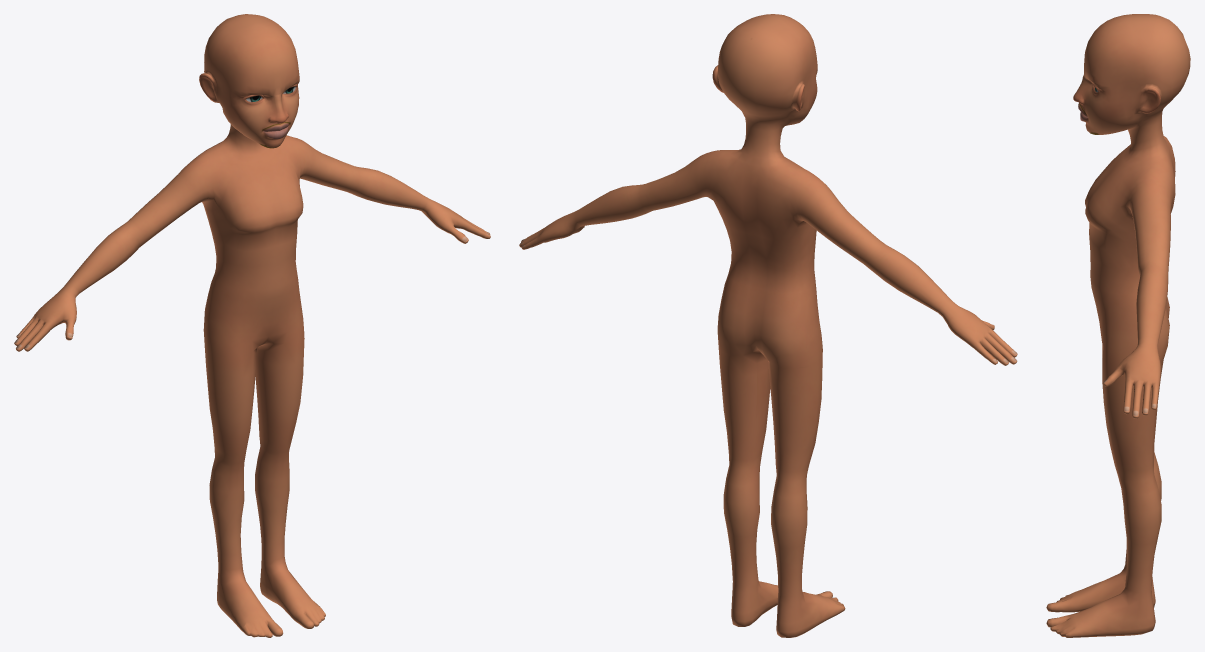
File: frame_0058.glb
3 views of the same model, side by side, from view 1: azimuth 30°, elevation 25°; view 2: azimuth 150°, elevation 25°; view 3: azimuth 270°, elevation 25° (orthographic). The views are drawn at different scales.
Parts seen in each view (by area): view 1: frame_0058_head_geo; view 2: frame_0058_head_geo; view 3: frame_0058_head_geo.
Boxes of the visible parts, <box> form: frame_0058_head_geo: <box>14,14,490,637</box>; frame_0058_head_geo: <box>519,14,1017,637</box>; frame_0058_head_geo: <box>1046,14,1190,637</box>.
Size of the model in its own units: 1.28 by 1.5 by 0.3253.
3 materials, 3 textured.
